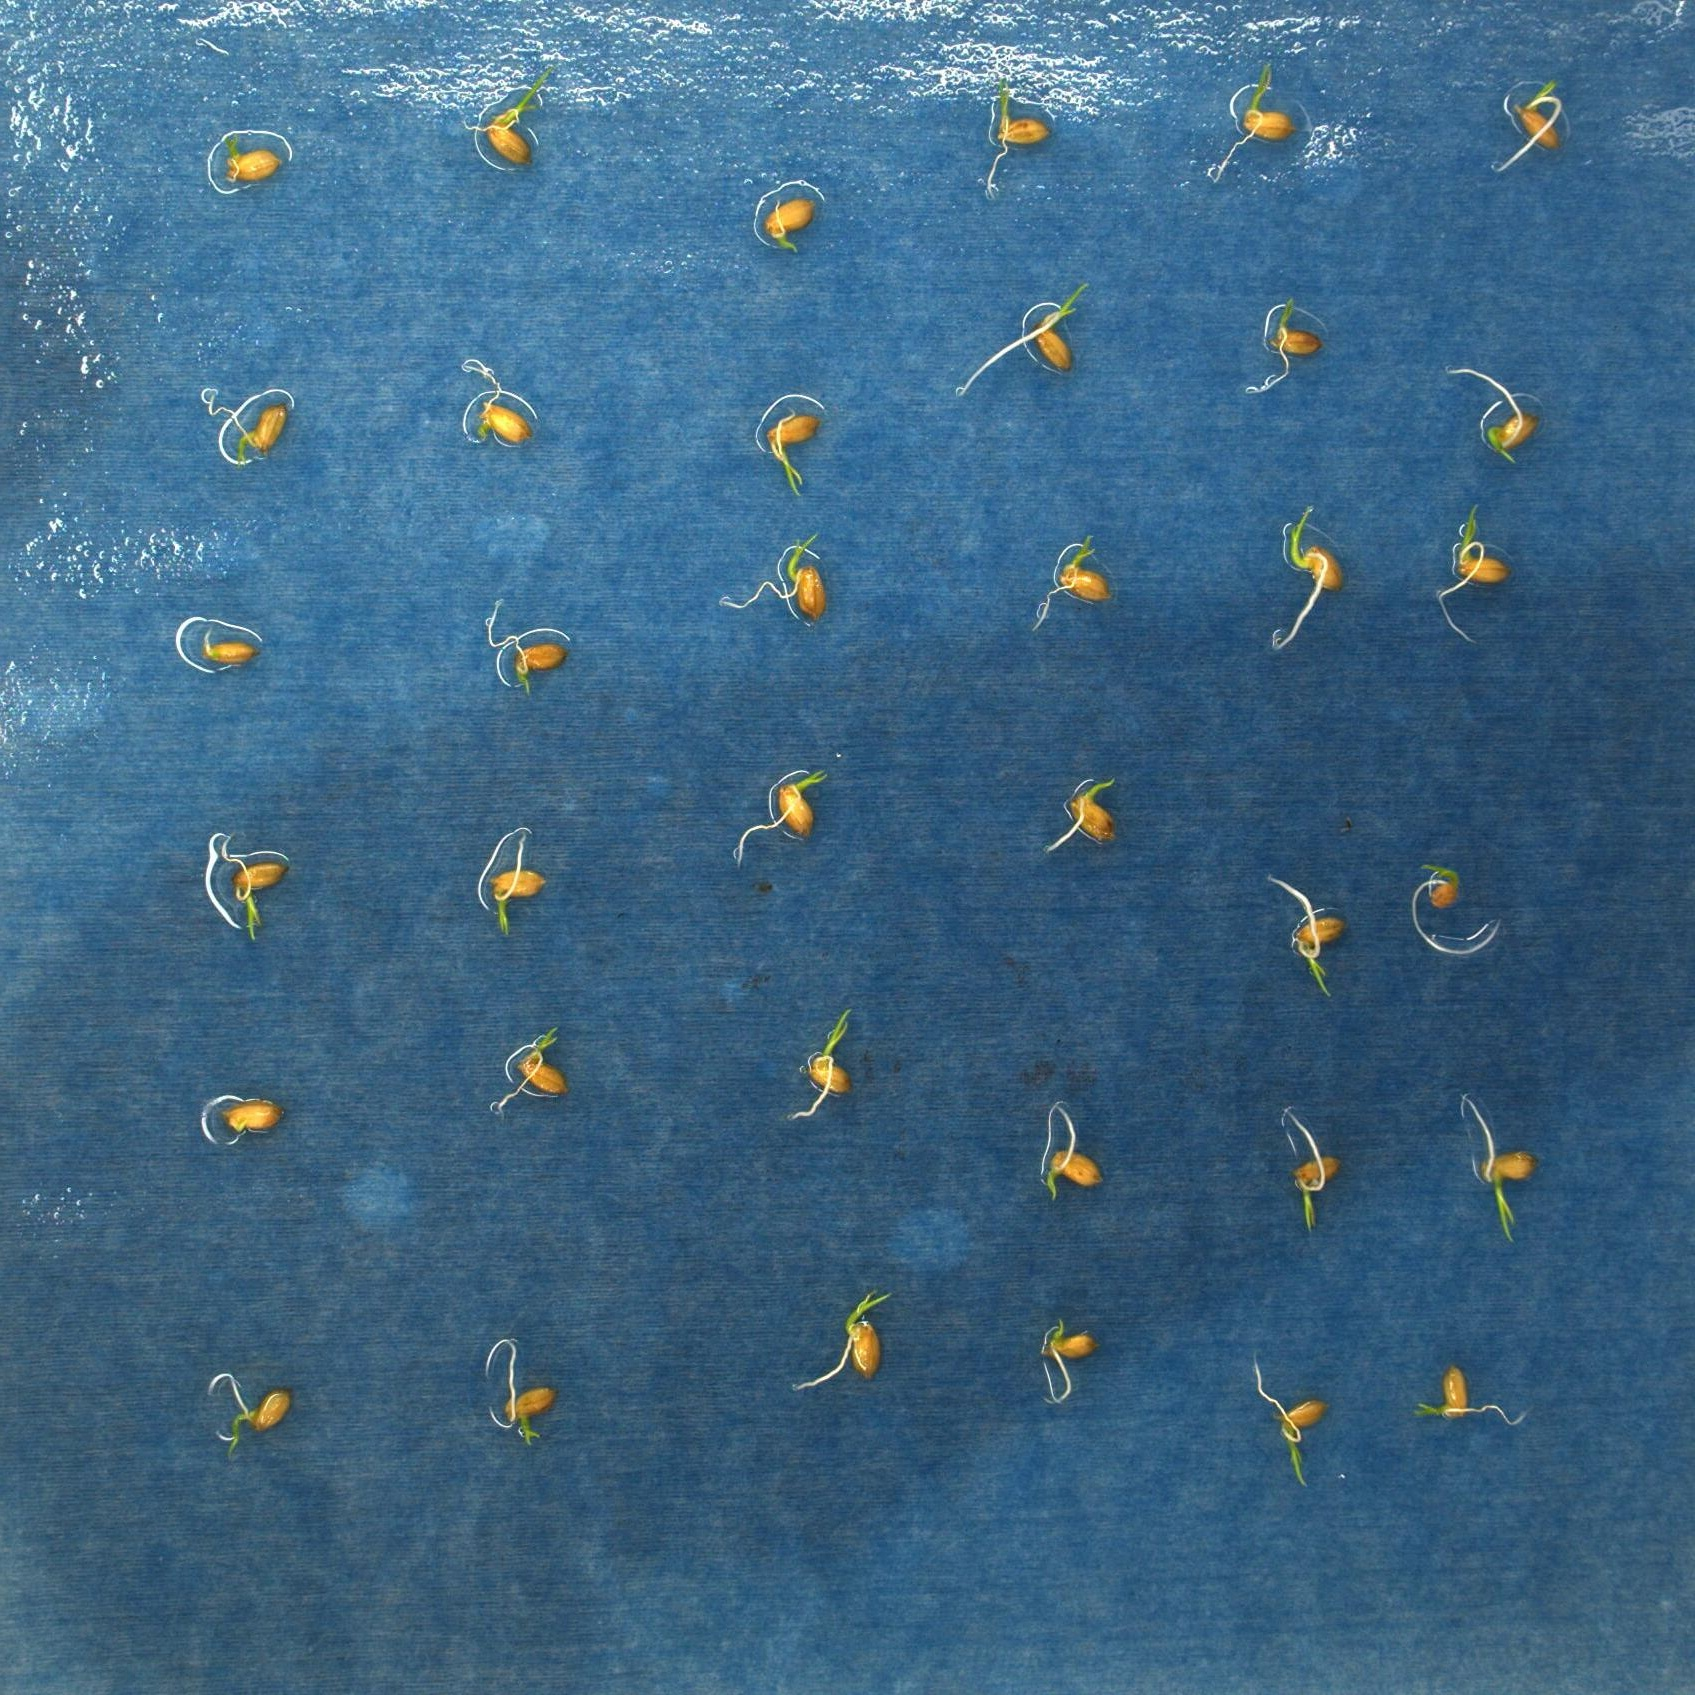not sprout: (439, 354, 543, 453), (477, 608, 581, 706), (1038, 1307, 1107, 1409), (744, 192, 813, 265), (186, 632, 269, 689), (210, 1097, 290, 1152)
sprout: (958, 261, 1113, 400), (1431, 1083, 1534, 1265), (1267, 470, 1358, 652), (1250, 1336, 1343, 1501), (1385, 1343, 1548, 1436), (1270, 879, 1364, 1034), (456, 61, 574, 180), (203, 818, 296, 961), (1430, 492, 1518, 641), (483, 1336, 576, 1468), (1437, 363, 1540, 483), (717, 529, 834, 632), (792, 1285, 900, 1394), (1212, 45, 1293, 185), (478, 832, 557, 970), (1282, 1105, 1360, 1243), (489, 1018, 587, 1127), (778, 1009, 868, 1125), (191, 397, 304, 489), (750, 761, 840, 875), (1231, 300, 1322, 408), (969, 78, 1052, 192), (196, 1363, 298, 1456), (1489, 71, 1569, 189), (750, 390, 835, 498), (1037, 1096, 1118, 1203), (1034, 532, 1114, 629), (1055, 765, 1132, 854), (199, 132, 289, 192), (1412, 851, 1478, 927)
